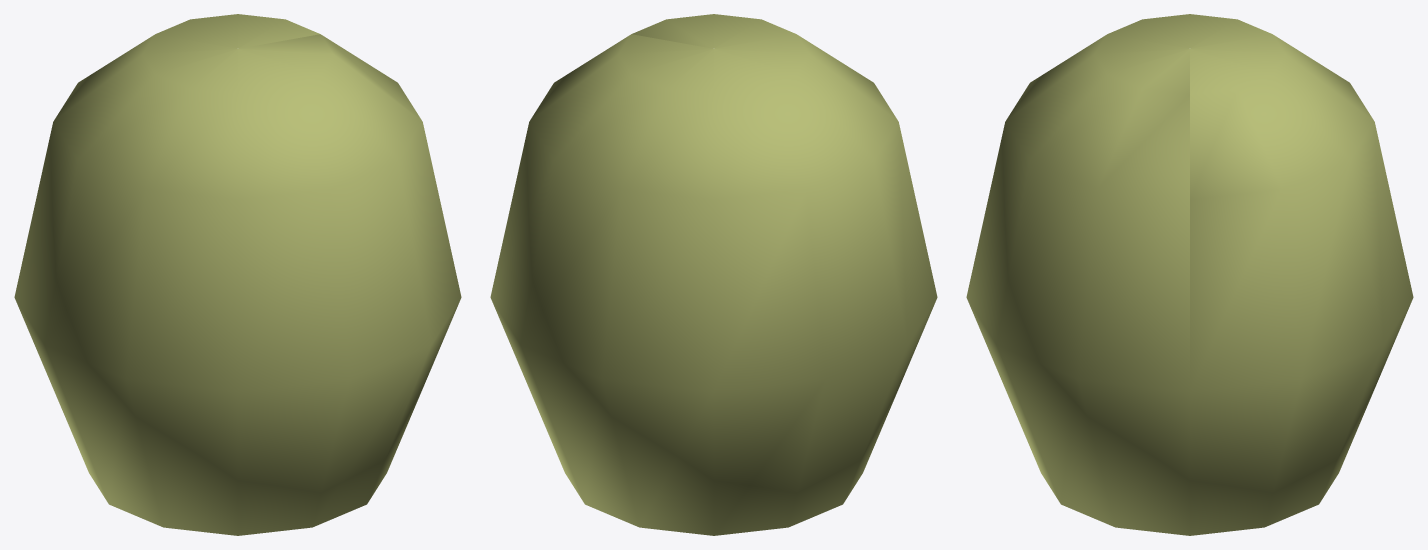
Rendered from fruit-cactus-unripe.glb.
3 views of the same model, side by side, from view 1: azimuth 30°, elevation 25°; view 2: azimuth 150°, elevation 25°; view 3: azimuth 270°, elevation 25° (orthographic).
Visible parts, largest first — view 1: fruit-cactus-unripe; view 2: fruit-cactus-unripe; view 3: fruit-cactus-unripe.
Part boxes in pixels (bbox=[...]): fruit-cactus-unripe: bbox=[14, 14, 461, 535]; fruit-cactus-unripe: bbox=[490, 14, 937, 535]; fruit-cactus-unripe: bbox=[966, 14, 1413, 535].
Bounding box in the file's own units: 0.3 × 0.344 × 0.3.
